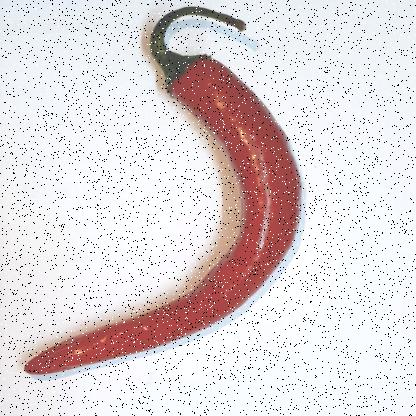chili: (22, 5, 301, 380)
